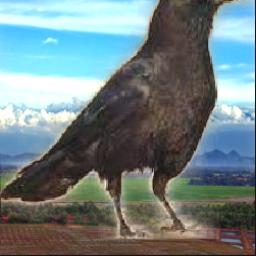Crow: (1, 0, 255, 240)
